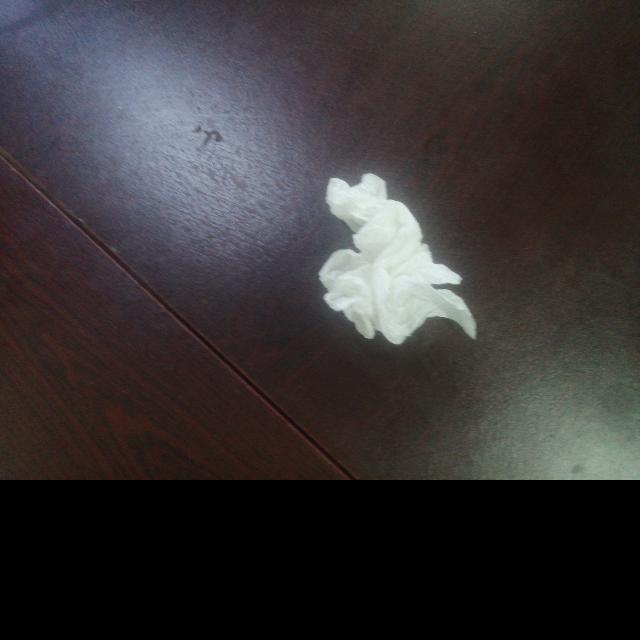kitchen paper: (314, 164, 486, 356)
